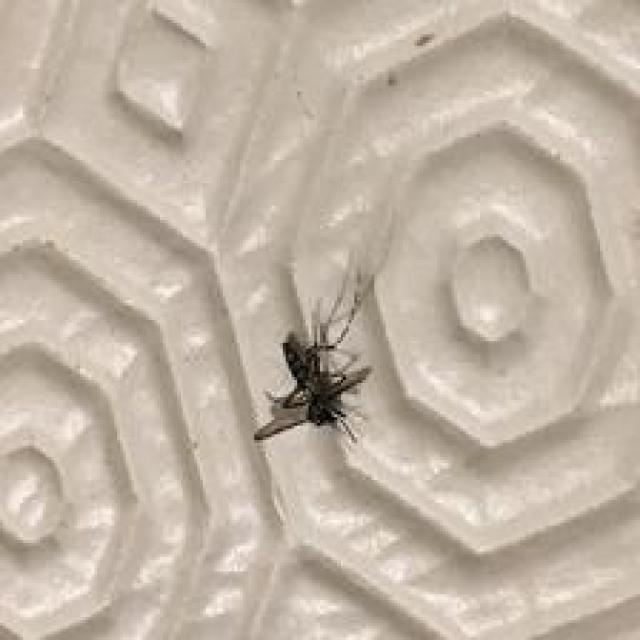Aedes albopictus: (252, 268, 374, 446)
